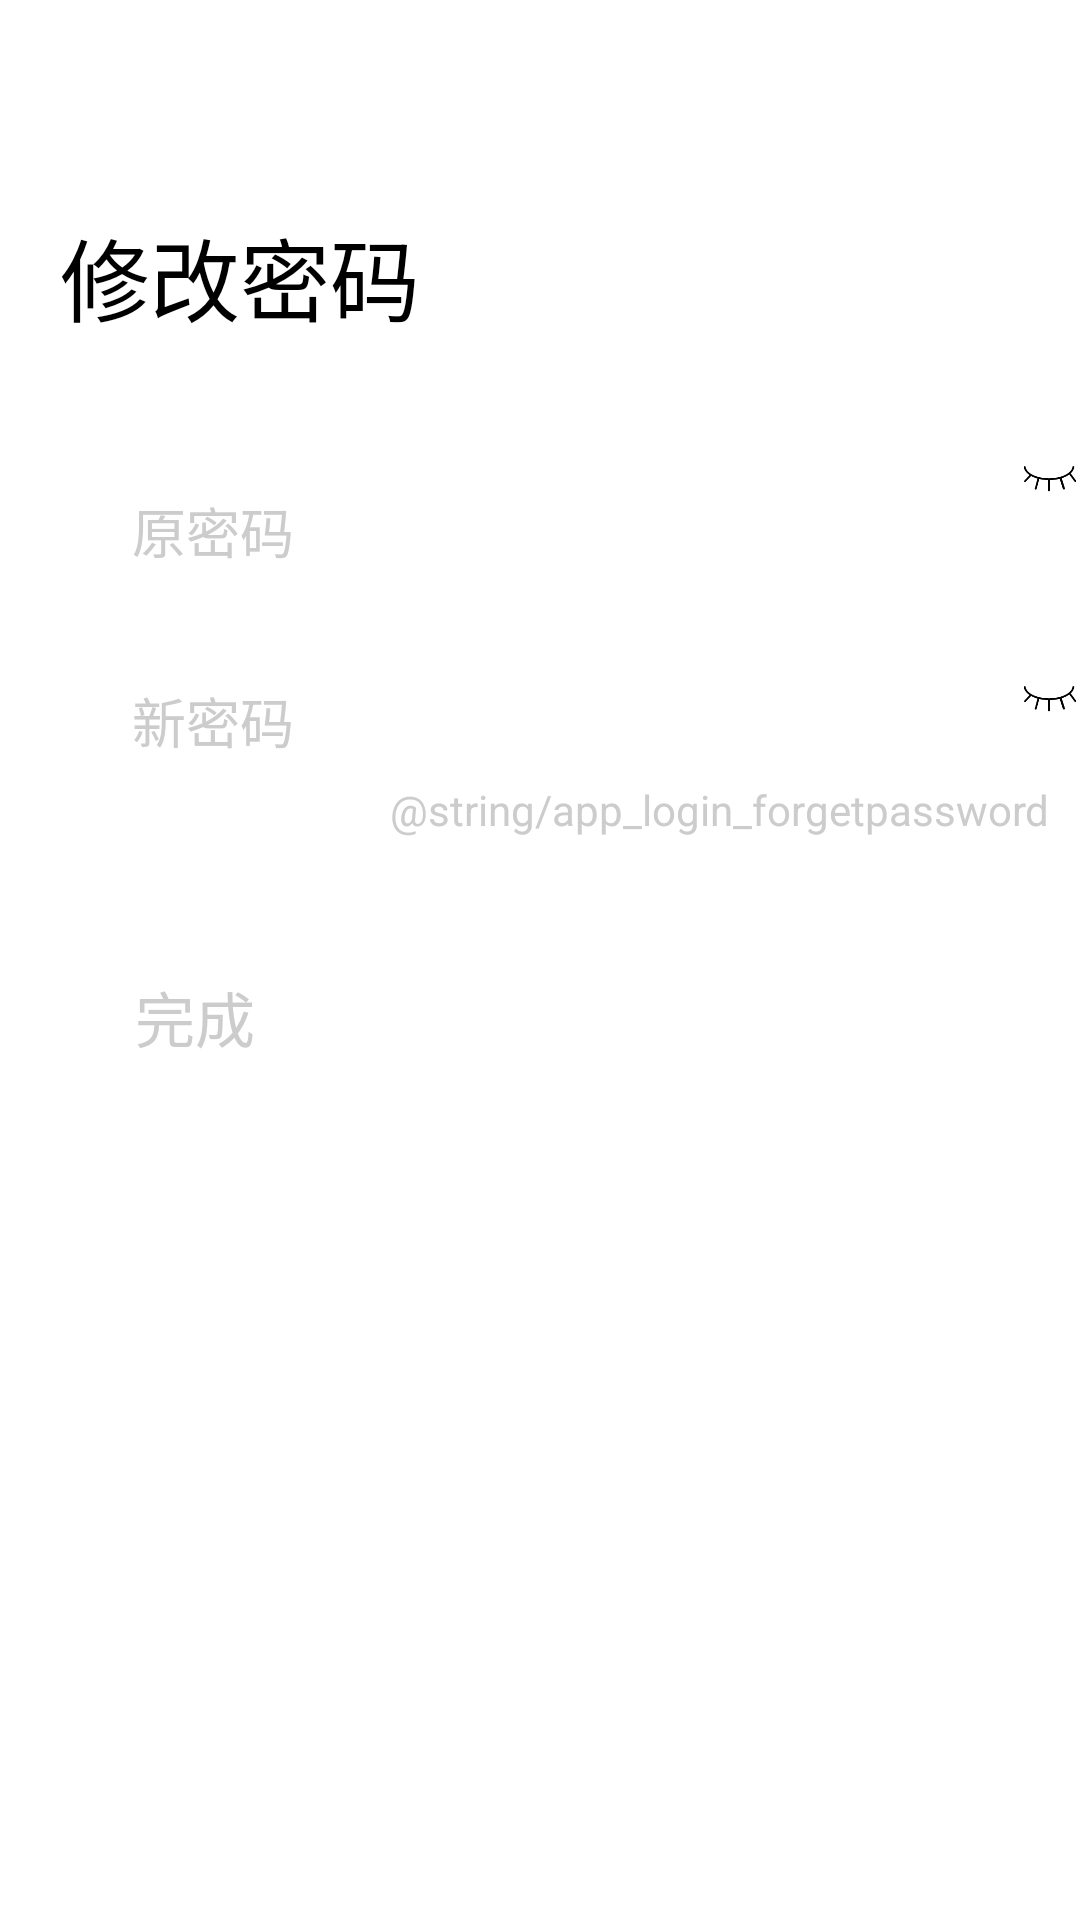

Named icons in this screenshot (1080×1920) and their centers, [x,y]:
passwordnosee: [1050,479], [1050,699]
